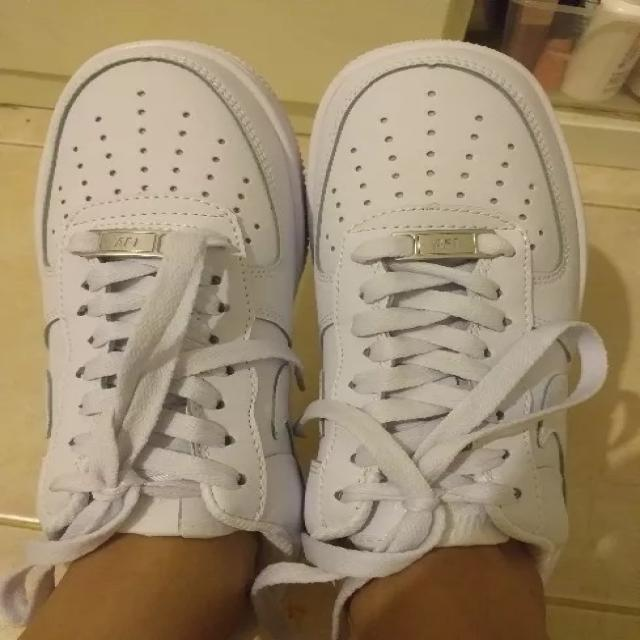nike fake air force: (296, 38, 590, 632), (21, 35, 314, 616)
